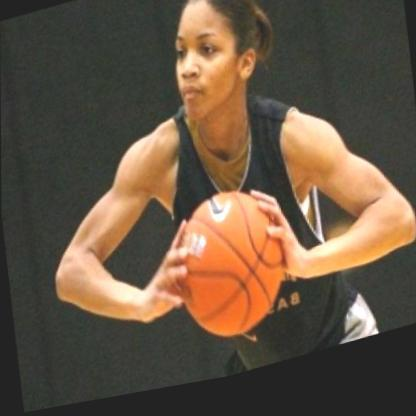basketball: (174, 184, 286, 355)
